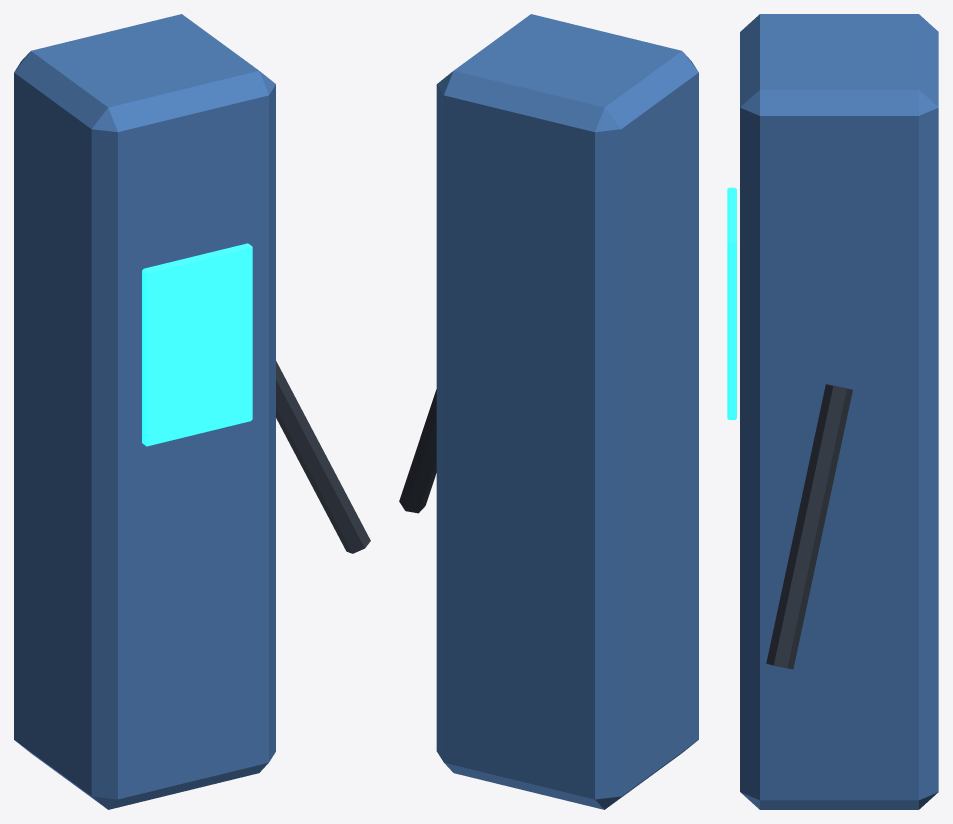
The model's file is street_008_seed11.glb.
The picture shows the model from 3 angles, left to right: view 1: azimuth 30°, elevation 25°; view 2: azimuth 150°, elevation 25°; view 3: azimuth 270°, elevation 25°; orthographic projection. The views are drawn at different scales.
Visible parts, largest first — view 1: street_008_seed11; view 2: street_008_seed11; view 3: street_008_seed11.
Part boxes in pixels (x1,y1,x2,y2): street_008_seed11: [14, 14, 370, 809]; street_008_seed11: [399, 14, 698, 809]; street_008_seed11: [727, 14, 938, 809].
Bounding box in the file's own units: 0.8535 × 2 × 0.5325.
